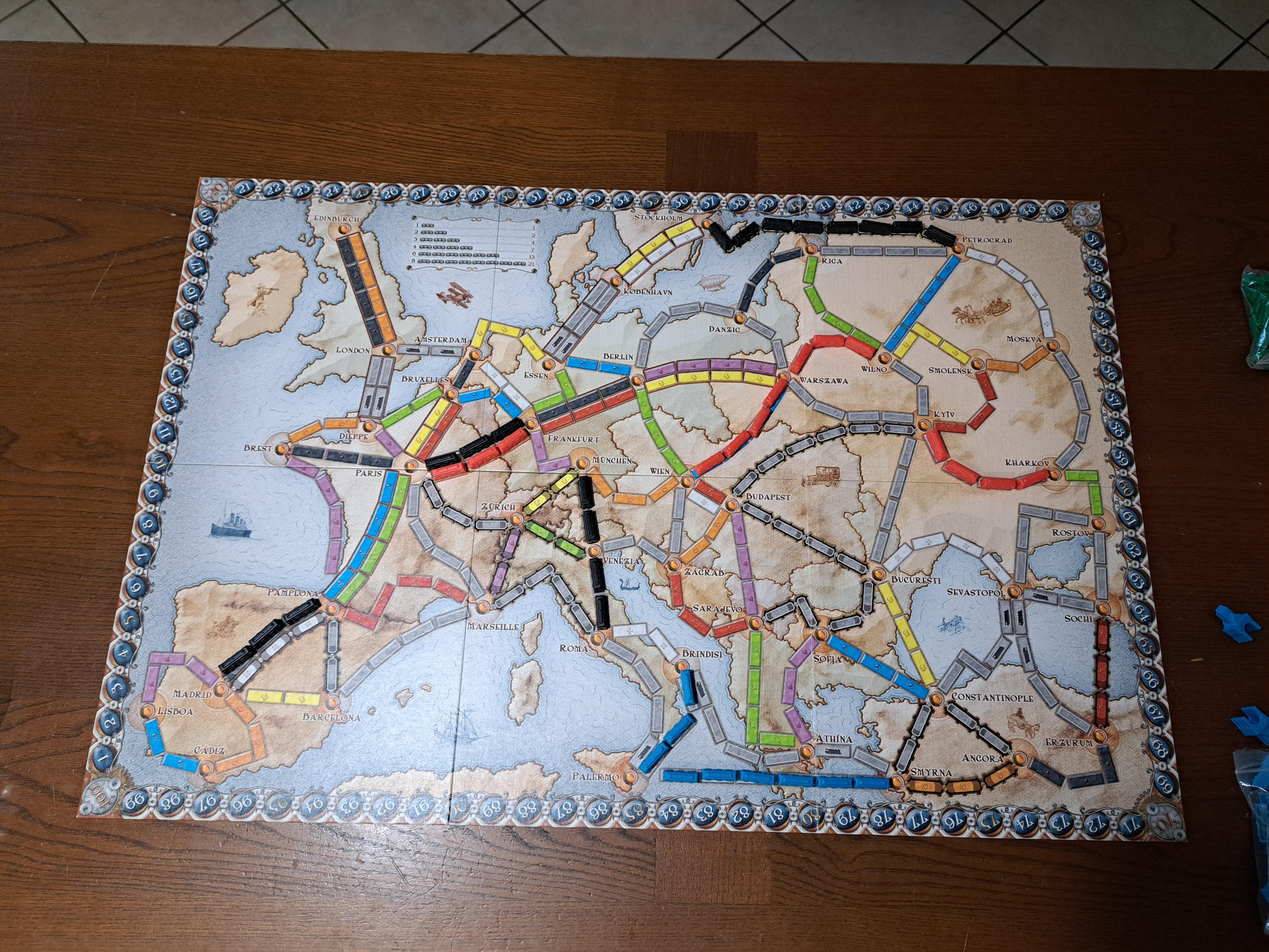corner_bl: (77, 774, 125, 818)
corner_br: (1144, 801, 1187, 841)
corner_tl: (196, 178, 232, 208)
corner_tr: (1071, 202, 1103, 229)
